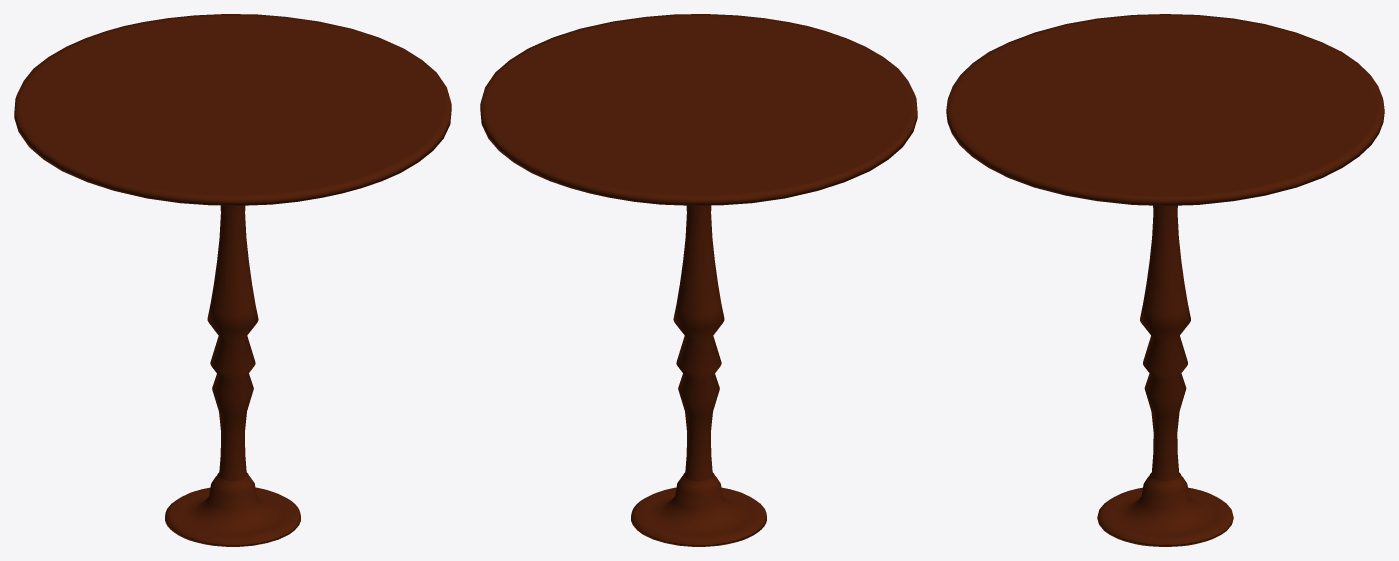
The model's file is table.fbx.
The picture shows the model from 3 angles, left to right: view 1: azimuth 30°, elevation 25°; view 2: azimuth 150°, elevation 25°; view 3: azimuth 270°, elevation 25°; orthographic projection.
Parts seen in each view (by area): view 1: low; view 2: low; view 3: low.
Boxes of the visible parts, x1=… form: low: x1=14, y1=14, x2=451, y2=546; low: x1=480, y1=14, x2=917, y2=546; low: x1=946, y1=14, x2=1384, y2=546.
Bounding box in the file's own units: 95.41 × 99.09 × 95.41.
